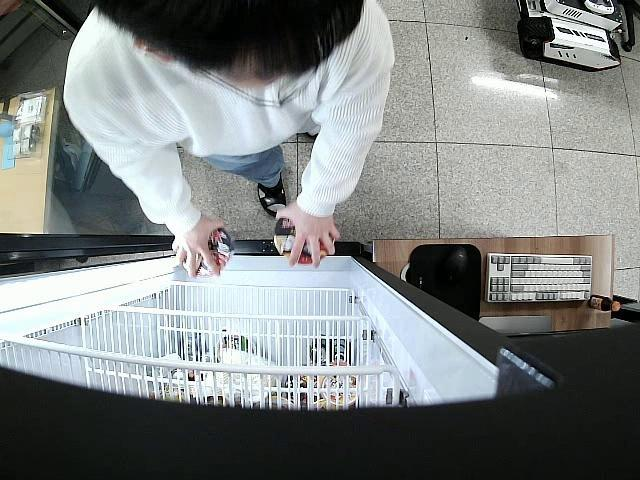07_buldak_L: (271, 215, 330, 266), (188, 228, 235, 278)
